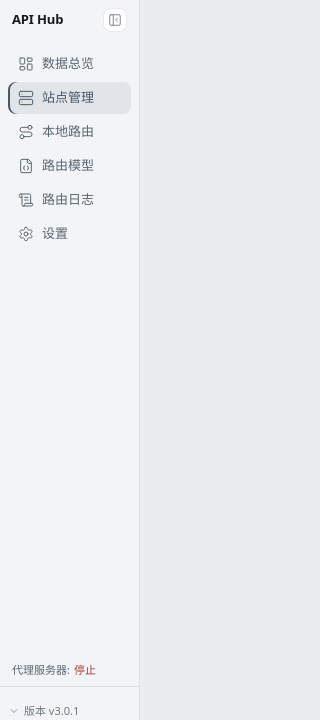
app shell redesign › supports manual sidebar mode switching and keeps version/update info in the bottom section
This screenshot has width=320, height=720.
Expected: the text "API Hub" is shown, [12,10,63,30]
Expected: the text "版本 v3.0.1" is shown, [24,703,79,719]
Click the button named "切换侧栏显示模式" at (115, 20), box [103,8,127,32]
(page scrolled)
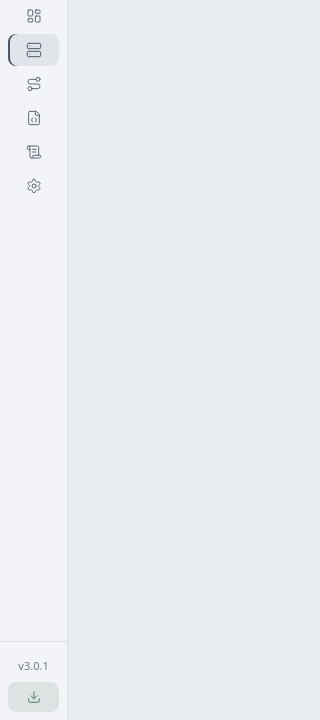
Expected: the element with test id "sidebar-footer-separator" is shown, [18,658,49,672]
Now the text "API Hub" is gone
